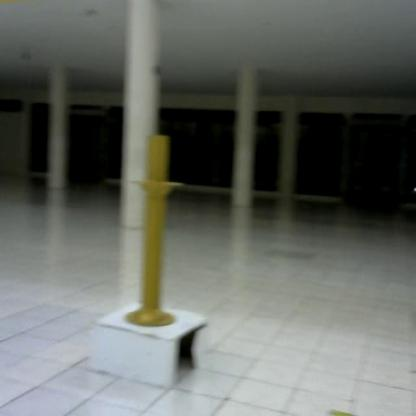pole: (127, 124, 184, 335)
